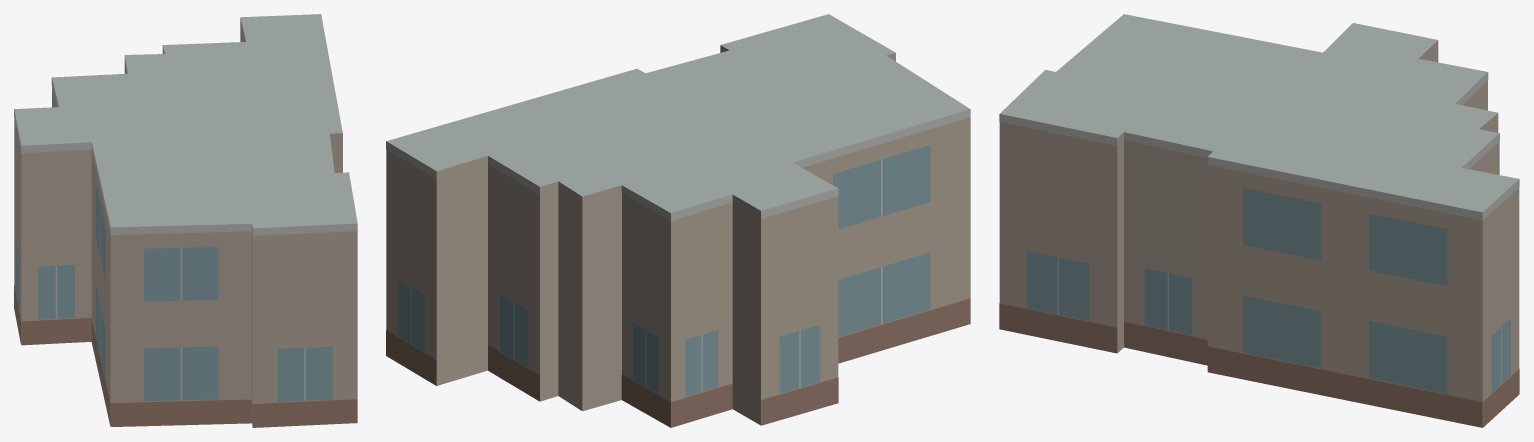
Rendered from survey-upis-32584311.glb.
3 views of the same model, side by side, from view 1: azimuth 30°, elevation 25°; view 2: azimuth 150°, elevation 25°; view 3: azimuth 270°, elevation 25° (orthographic). The views are drawn at different scales.
Parts seen in each view (by area): view 1: survey-upis-32584311.tmp; view 2: survey-upis-32584311.tmp; view 3: survey-upis-32584311.tmp.
Part boxes in pixels (left/top/right/bottom): survey-upis-32584311.tmp: left=14, top=14, right=357, bottom=427; survey-upis-32584311.tmp: left=386, top=14, right=970, bottom=427; survey-upis-32584311.tmp: left=999, top=14, right=1519, bottom=427.
Size of the model in its own units: 12.86 by 6.5 by 14.23.
